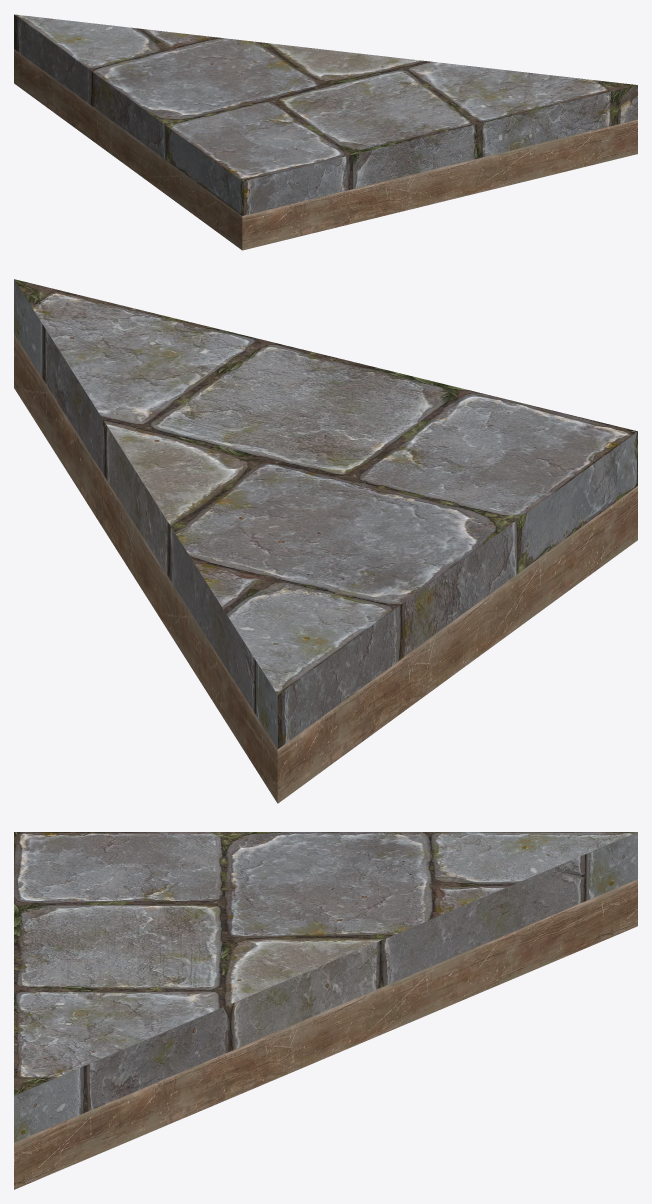
3 views of the same model, one above another, from view 1: azimuth 30°, elevation 25°; view 2: azimuth 150°, elevation 25°; view 3: azimuth 270°, elevation 25° (orthographic). The views are drawn at different scales.
Parts seen in each view (by area): view 1: SM_Greathall_Floor_Tri_3x3_01_LOD0; view 2: SM_Greathall_Floor_Tri_3x3_01_LOD0; view 3: SM_Greathall_Floor_Tri_3x3_01_LOD0.
Boxes of the visible parts, <box> form: SM_Greathall_Floor_Tri_3x3_01_LOD0: <box>14,14,637,250</box>; SM_Greathall_Floor_Tri_3x3_01_LOD0: <box>14,279,637,803</box>; SM_Greathall_Floor_Tri_3x3_01_LOD0: <box>14,832,637,1189</box>.
Size of the model in its own units: 3 by 0.5 by 3.
Materials: 2 (2 with a texture image).
